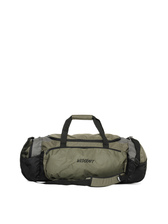bag: (17, 113, 150, 187)
